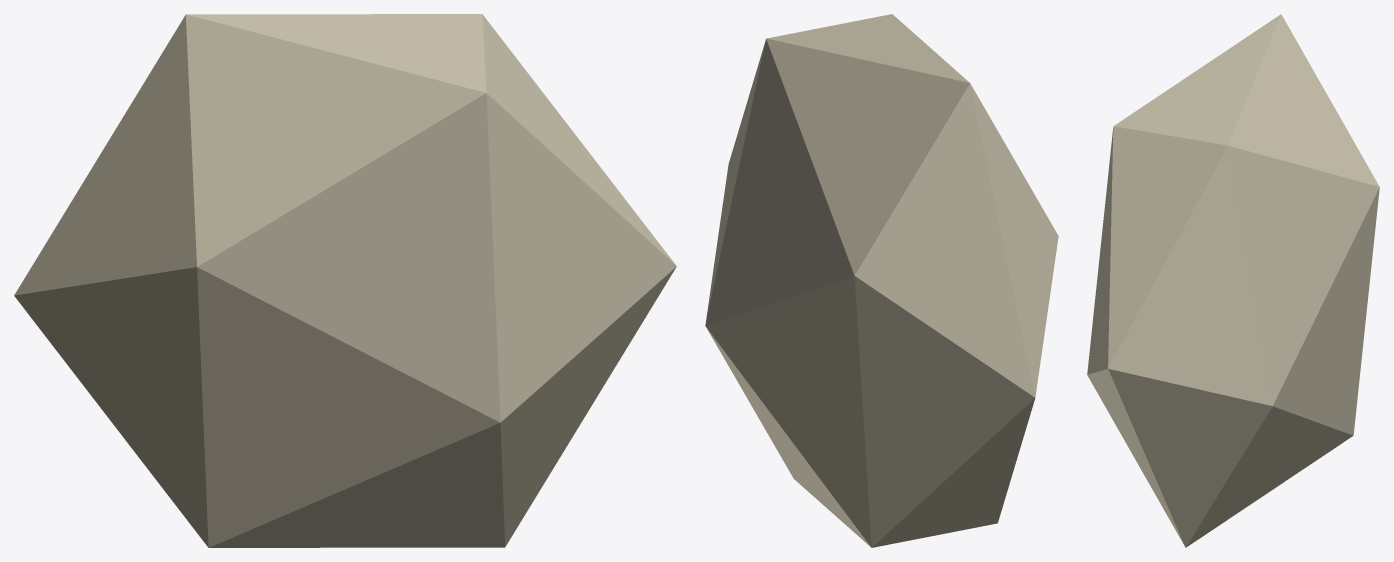
Rendered from gore_05.glb.
3 views of the same model, side by side, from view 1: azimuth 30°, elevation 25°; view 2: azimuth 150°, elevation 25°; view 3: azimuth 270°, elevation 25° (orthographic). The views are drawn at different scales.
Visible parts, largest first — view 1: CHUNK; view 2: CHUNK; view 3: CHUNK.
Part boxes in pixels (x1,y1,x2,y2): CHUNK: [14, 14, 676, 547]; CHUNK: [705, 14, 1058, 547]; CHUNK: [1087, 14, 1379, 547].
Bounding box in the file's own units: 0.092 × 0.0963 × 0.0588.
